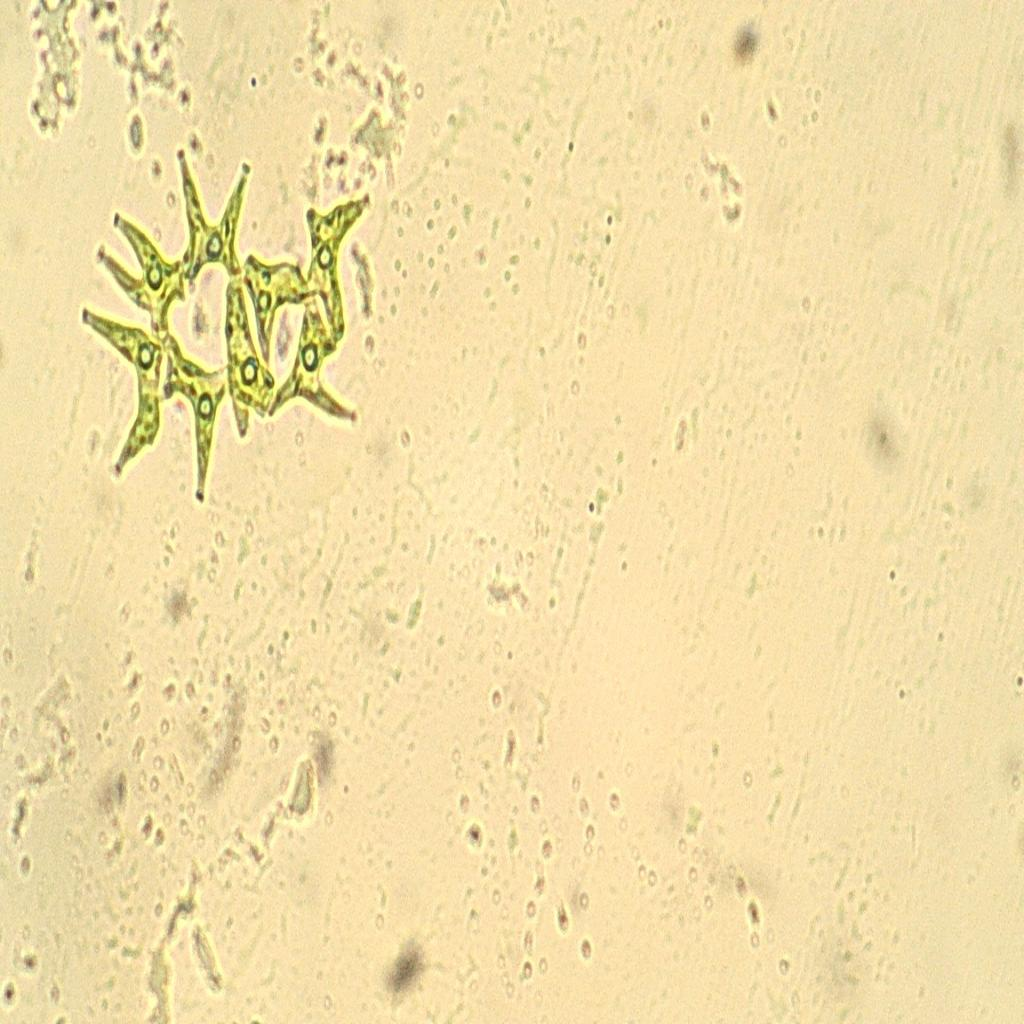Pediastrum_1TH: (79, 140, 404, 526)
